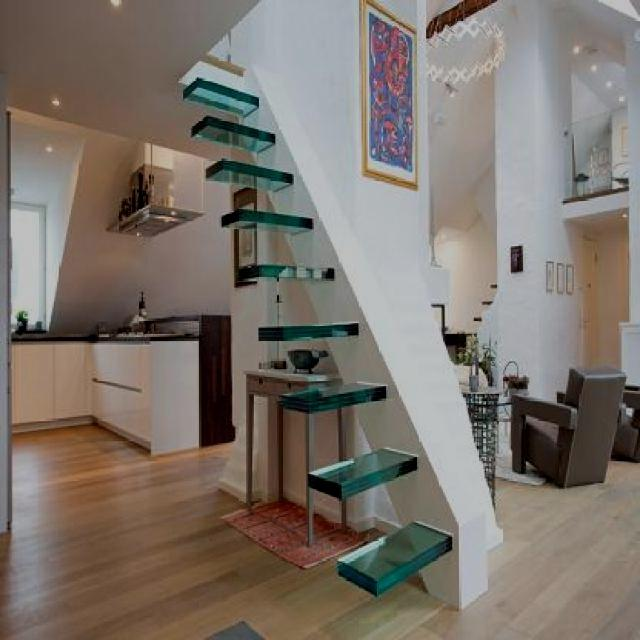stair: (176, 20, 482, 617)
